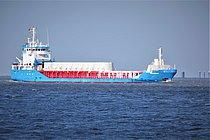Ship: (8, 25, 181, 86)
